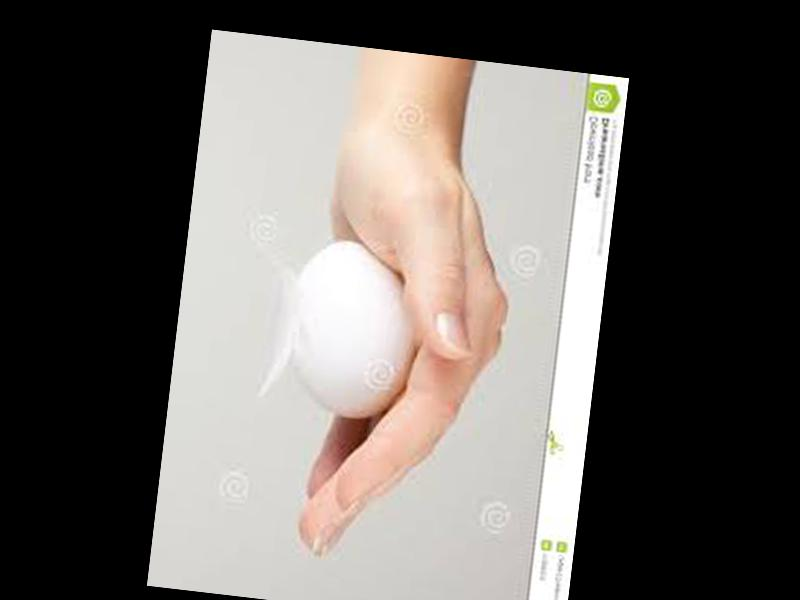Eggs: (283, 234, 425, 426)
